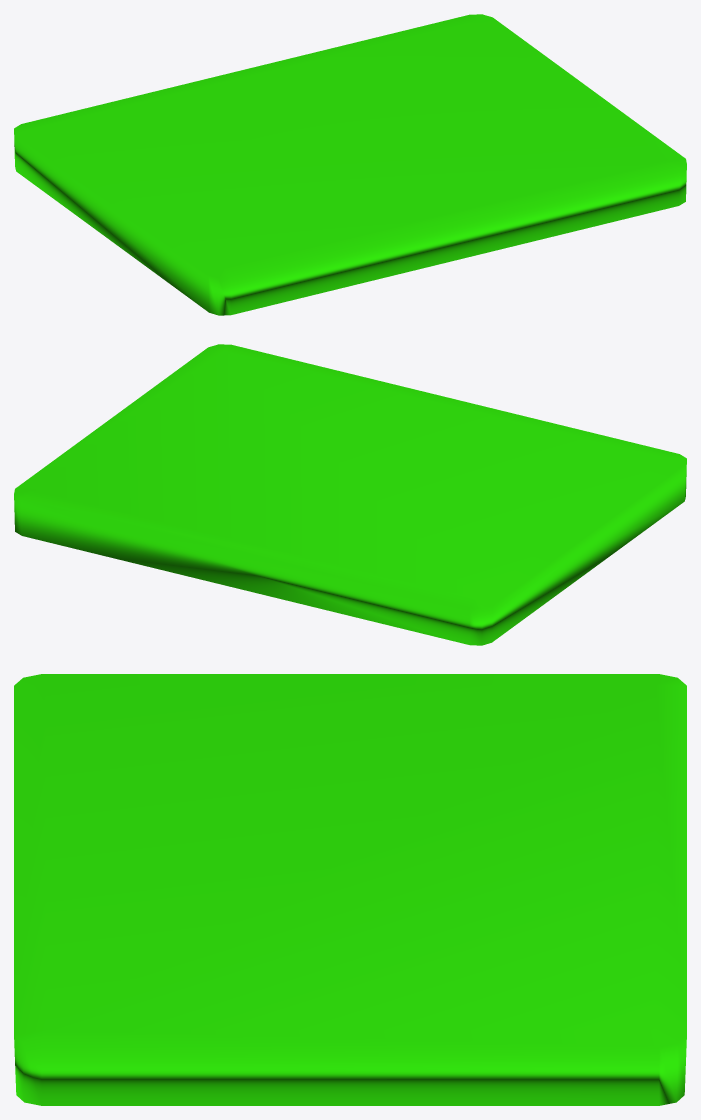
Rendered from Matress_01_Lod1.fbx.
3 renders of one model, top to bottom at view 1: azimuth 30°, elevation 25°; view 2: azimuth 150°, elevation 25°; view 3: azimuth 270°, elevation 25°, orthographic. The views are drawn at different scales.
Visible parts, largest first — view 1: Matress_01_Lod1; view 2: Matress_01_Lod1; view 3: Matress_01_Lod1.
Part boxes in pixels (<box>): Matress_01_Lod1: <box>14,14,686,315</box>; Matress_01_Lod1: <box>14,344,686,645</box>; Matress_01_Lod1: <box>14,674,686,1105</box>.
Bounding box in the file's own units: 203 × 17.77 × 155.
